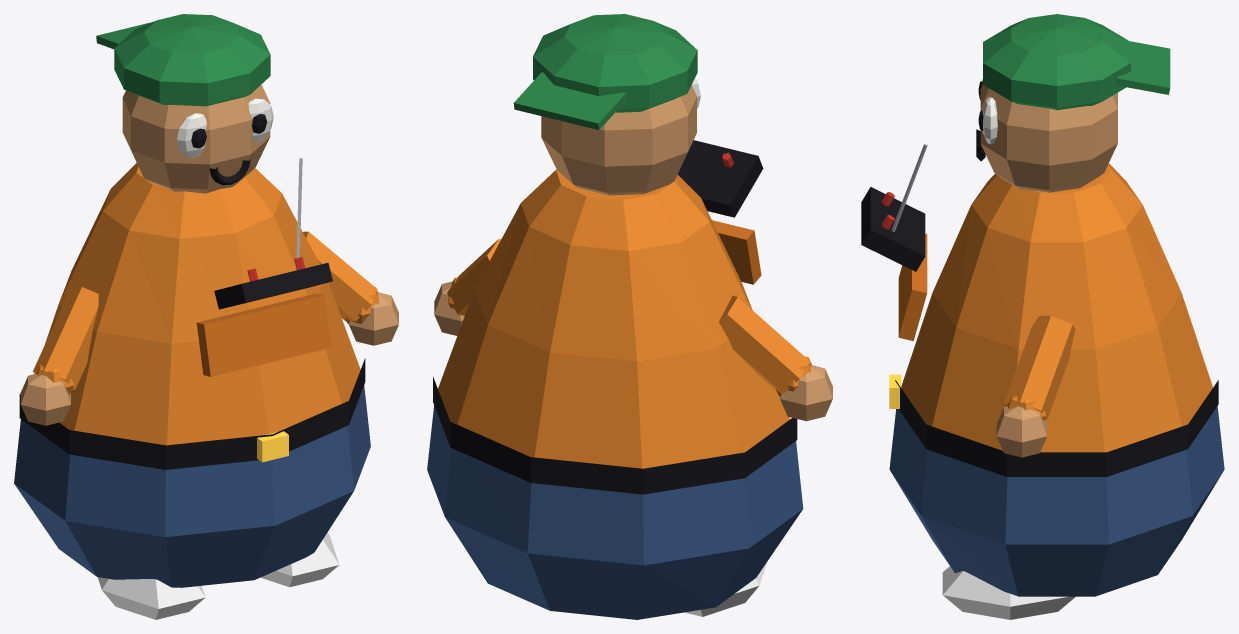
The model's file is npc_sobrino.glb.
3 renders of one model, left to right at view 1: azimuth 30°, elevation 25°; view 2: azimuth 150°, elevation 25°; view 3: azimuth 270°, elevation 25°, orthographic. The views are drawn at different scales.
Parts seen in each view (by area): view 1: body_hoodie_orange, body_kid_shorts, cap_kid_cap, head_skin_arena, body_black, body_hoodie_pocket, arms_hoodie_orange, legs_sneakers_white, arms_skin_arena, remote_black, face_white, face_black (+1 smaller); view 2: body_hoodie_orange, body_kid_shorts, cap_kid_cap, head_skin_arena, body_black, arms_hoodie_orange, remote_black, arms_skin_arena, body_hoodie_pocket, legs_sneakers_white; view 3: body_hoodie_orange, body_kid_shorts, cap_kid_cap, head_skin_arena, body_black, arms_hoodie_orange, remote_black, legs_sneakers_white, arms_skin_arena, body_hoodie_pocket, face_white.
Part boxes in pixels (<box>): body_hoodie_orange: <box>45,163,360,445</box>; body_kid_shorts: <box>14,385,370,587</box>; cap_kid_cap: <box>96,14,270,106</box>; head_skin_arena: <box>122,84,270,193</box>; body_black: <box>19,358,365,469</box>; body_hoodie_pocket: <box>196,293,331,376</box>; arms_hoodie_orange: <box>33,231,379,394</box>; legs_sneakers_white: <box>97,532,339,619</box>; arms_skin_arena: <box>20,292,398,425</box>; remote_black: <box>214,263,332,309</box>; face_white: <box>177,98,273,157</box>; face_black: <box>191,114,267,185</box>; body_hoodie_orange: <box>438,169,789,468</box>; body_kid_shorts: <box>427,405,803,619</box>; cap_kid_cap: <box>513,14,697,129</box>; head_skin_arena: <box>541,85,696,195</box>; body_black: <box>433,376,797,494</box>; arms_hoodie_orange: <box>447,239,812,396</box>; remote_black: <box>677,140,763,217</box>; arms_skin_arena: <box>434,281,832,421</box>; body_hoodie_pocket: <box>712,220,761,284</box>; legs_sneakers_white: <box>684,561,767,616</box>; body_hoodie_orange: <box>901,163,1212,452</box>; body_kid_shorts: <box>889,406,1224,596</box>; cap_kid_cap: <box>983,14,1170,110</box>; head_skin_arena: <box>980,84,1117,192</box>; body_black: <box>895,380,1218,476</box>; arms_hoodie_orange: <box>1004,315,1075,420</box>; remote_black: <box>861,187,925,271</box>; legs_sneakers_white: <box>942,566,1075,619</box>; arms_skin_arena: <box>996,406,1047,457</box>; body_hoodie_pocket: <box>898,233,927,340</box>; face_white: <box>982,79,997,144</box>.
Size of the model in its own units: 1.13 by 1.56 by 0.9322.
